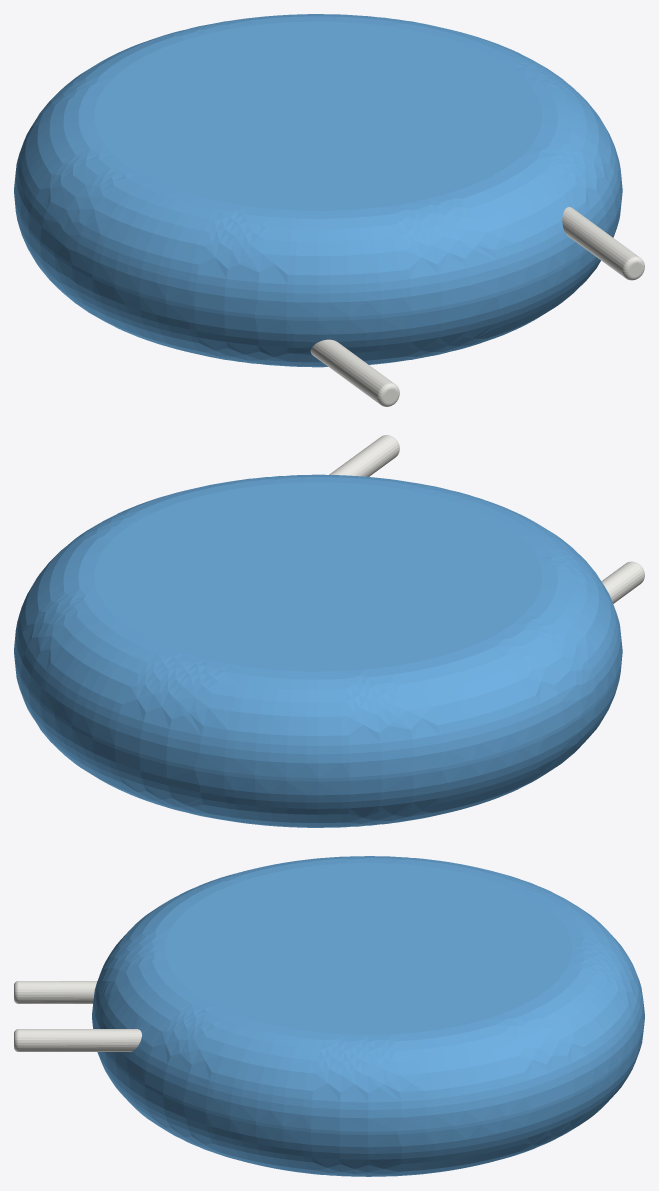
The model's file is RV_Disc_D21.5mm_W5.8mm_P10mm.glb.
3 views of the same model, one above another, from view 1: azimuth 30°, elevation 25°; view 2: azimuth 150°, elevation 25°; view 3: azimuth 270°, elevation 25° (orthographic). The views are drawn at different scales.
Parts seen in each view (by area): view 1: Shape_IndexedFaceSet.001, Shape_IndexedFaceSet.003, Shape_IndexedFaceSet.002, Shape_IndexedFaceSet, Shape_IndexedFaceSet.006, Shape_IndexedFaceSet.004; view 2: Shape_IndexedFaceSet.001, Shape_IndexedFaceSet.003, Shape_IndexedFaceSet.002, Shape_IndexedFaceSet, Shape_IndexedFaceSet.004, Shape_IndexedFaceSet.006; view 3: Shape_IndexedFaceSet.001, Shape_IndexedFaceSet.003, Shape_IndexedFaceSet.002, Shape_IndexedFaceSet.004, Shape_IndexedFaceSet, Shape_IndexedFaceSet.006.
Part boxes in pixels (box(x1,y1,x2,y2)): Shape_IndexedFaceSet.001: box(14, 14, 622, 317); Shape_IndexedFaceSet.003: box(94, 21, 542, 210); Shape_IndexedFaceSet.002: box(14, 197, 621, 367); Shape_IndexedFaceSet: box(14, 189, 622, 320); Shape_IndexedFaceSet.006: box(310, 339, 393, 403); Shape_IndexedFaceSet.004: box(562, 207, 638, 277); Shape_IndexedFaceSet.001: box(14, 474, 622, 777); Shape_IndexedFaceSet.003: box(94, 482, 542, 671); Shape_IndexedFaceSet.002: box(14, 656, 622, 827); Shape_IndexedFaceSet: box(14, 650, 622, 781); Shape_IndexedFaceSet.004: box(329, 435, 398, 476); Shape_IndexedFaceSet.006: box(601, 562, 644, 603); Shape_IndexedFaceSet.001: box(92, 856, 644, 1131); Shape_IndexedFaceSet.003: box(164, 862, 571, 1034); Shape_IndexedFaceSet.002: box(92, 1025, 644, 1176); Shape_IndexedFaceSet.004: box(18, 1029, 141, 1051); Shape_IndexedFaceSet: box(92, 1016, 644, 1134); Shape_IndexedFaceSet.006: box(18, 981, 97, 1003).
Bounding box in the file's own units: 8.47 × 2.28 × 9.66.
